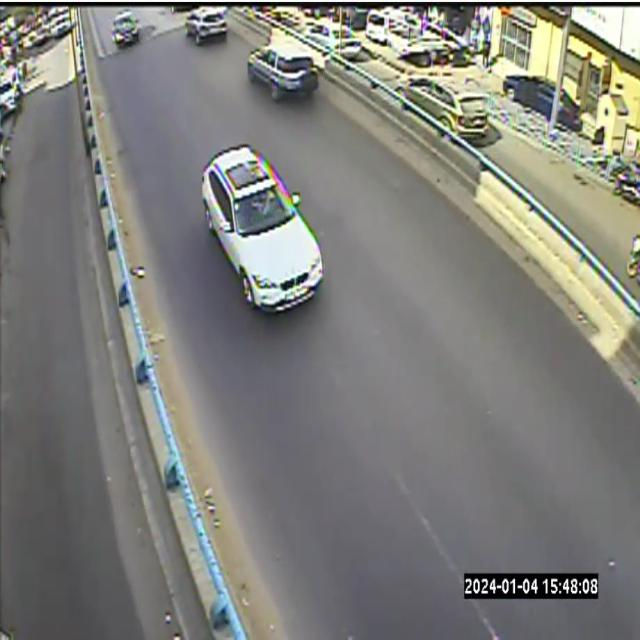car: (0, 87, 207, 637), (198, 138, 330, 325), (202, 145, 323, 311), (247, 40, 321, 110)
